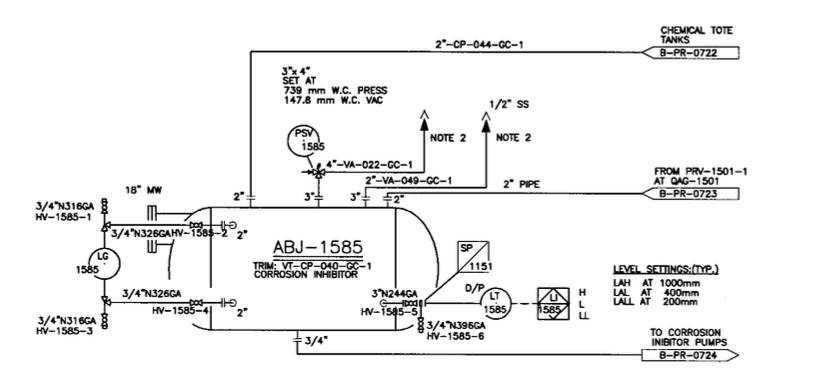Instrument-offset: (74, 244, 126, 281), (479, 281, 518, 322), (283, 122, 328, 157)
Instrument-square-offset: (532, 282, 573, 322)
